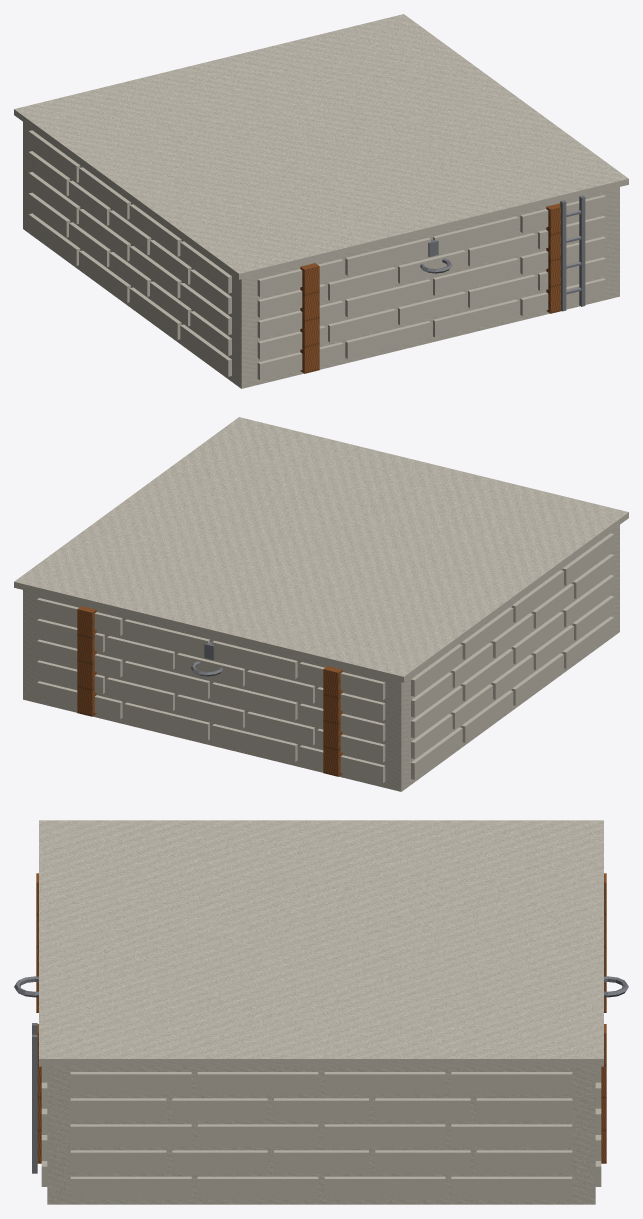
The model's file is pirate-port-and-tall-ships-stone-quay-section-338070a0__30134.glb.
3 renders of one model, top to bottom at view 1: azimuth 30°, elevation 25°; view 2: azimuth 150°, elevation 25°; view 3: azimuth 270°, elevation 25°, orthographic. The views are drawn at different scales.
Parts seen in each view (by area): view 1: stone-quay-section; view 2: stone-quay-section; view 3: stone-quay-section.
Part boxes in pixels (x1,y1,x2,y2): stone-quay-section: (14, 14, 628, 388); stone-quay-section: (14, 417, 628, 791); stone-quay-section: (14, 820, 628, 1204).
Size of the model in its own units: 4.12 by 1.2 by 4.48.
3 materials, 2 textured.
